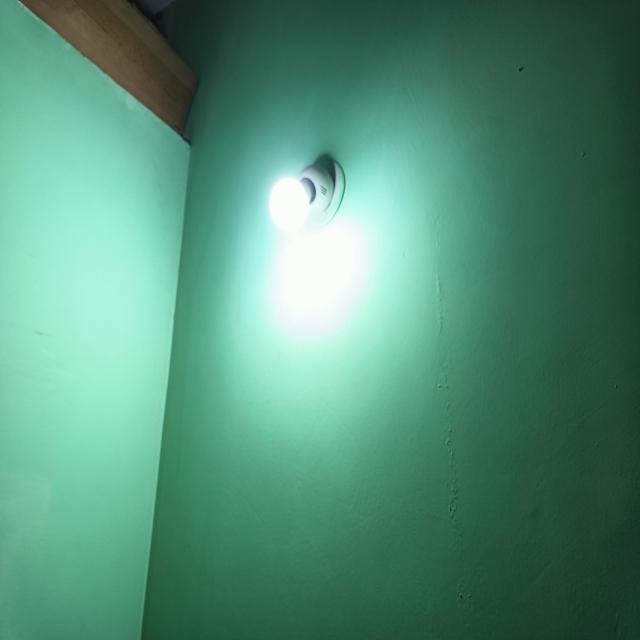bulb_on: (267, 174, 310, 235)
